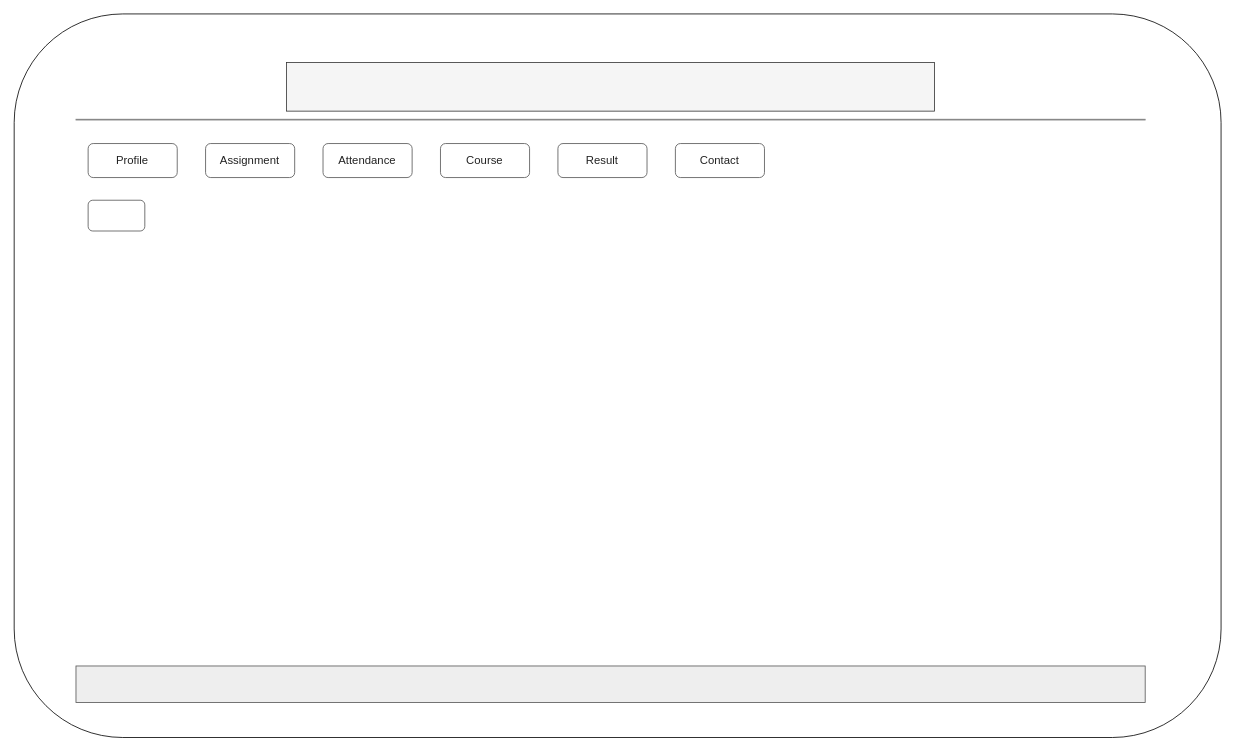
The diagram is 1235 pixels wide and 752 high, and some of its shapes have lost their labels. The shapes that lost their labels are listed below. From the top down, each one's centre as x and y in pixels, then its label:
the point at 610,86: STUDENT HUB PORTAL
the point at 116,215: Back
the point at 610,683: @2026 Student portal
